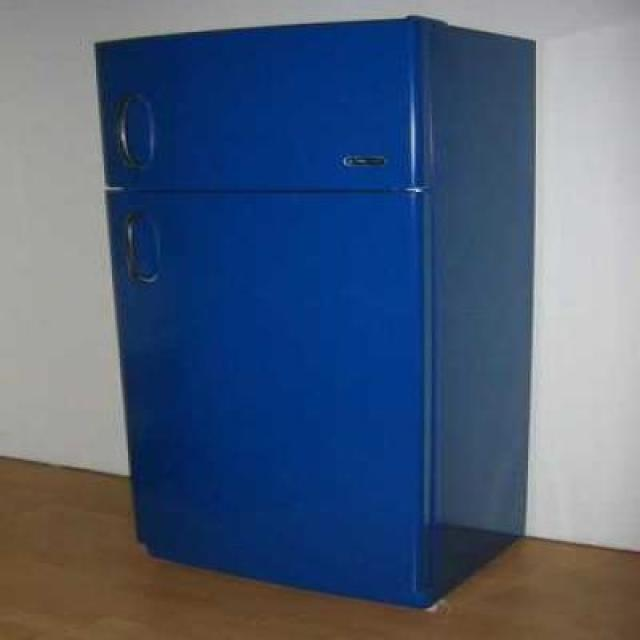refrigerator: (94, 12, 432, 610)
